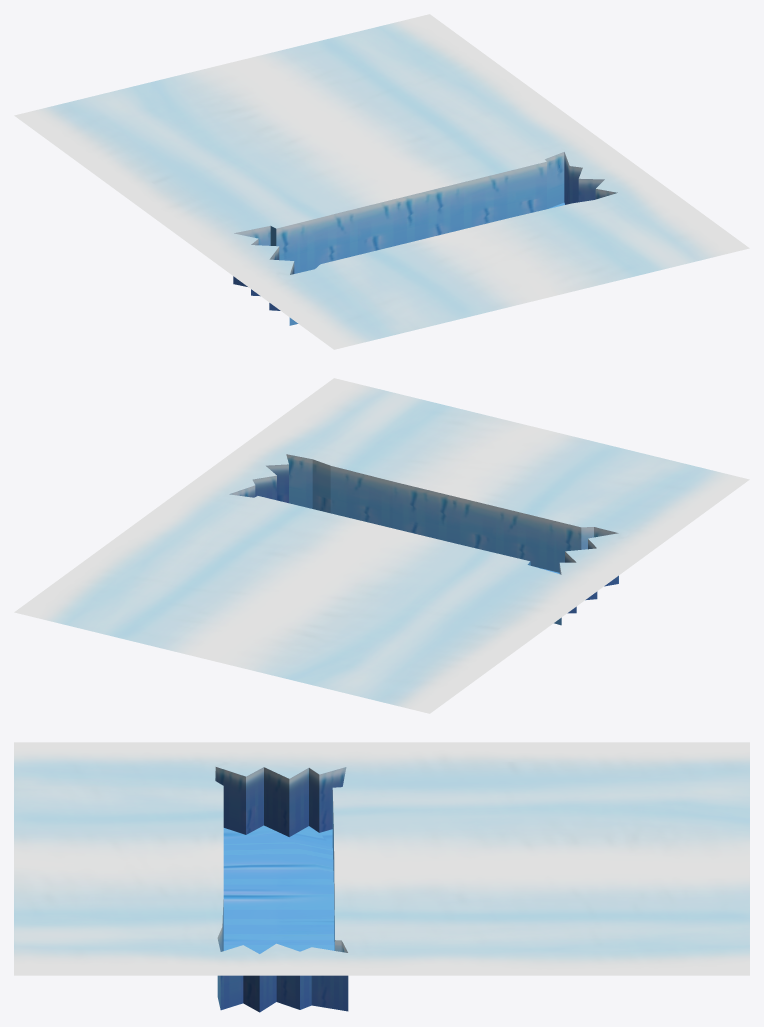
File: Hole_L_Size_02.FBX
3 renders of one model, top to bottom at view 1: azimuth 30°, elevation 25°; view 2: azimuth 150°, elevation 25°; view 3: azimuth 270°, elevation 25°, orthographic. The views are drawn at different scales.
Parts seen in each view (by area): view 1: modelRoad077; view 2: modelRoad077; view 3: modelRoad077.
Part boxes in pixels (bbox=[...]): modelRoad077: bbox=[14, 14, 749, 349]; modelRoad077: bbox=[14, 378, 749, 713]; modelRoad077: bbox=[14, 742, 749, 1012].
Size of the model in its own units: 600 by 70 by 800.
